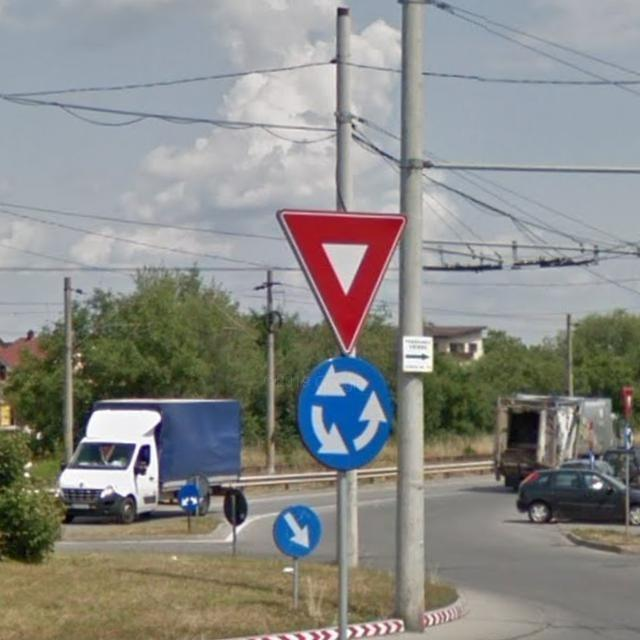prio_give_way: (276, 206, 403, 357)
